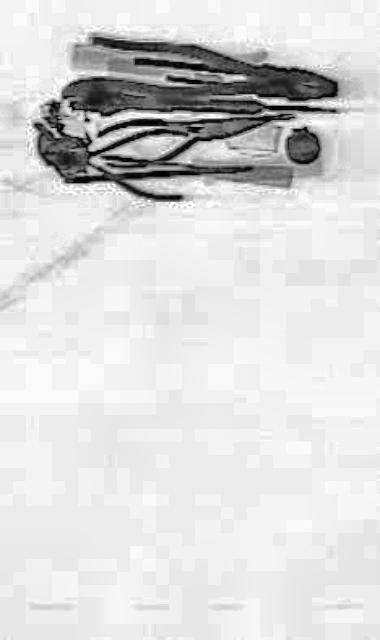Pliers: (88, 33, 338, 113), (93, 95, 277, 172), (52, 115, 188, 201)
